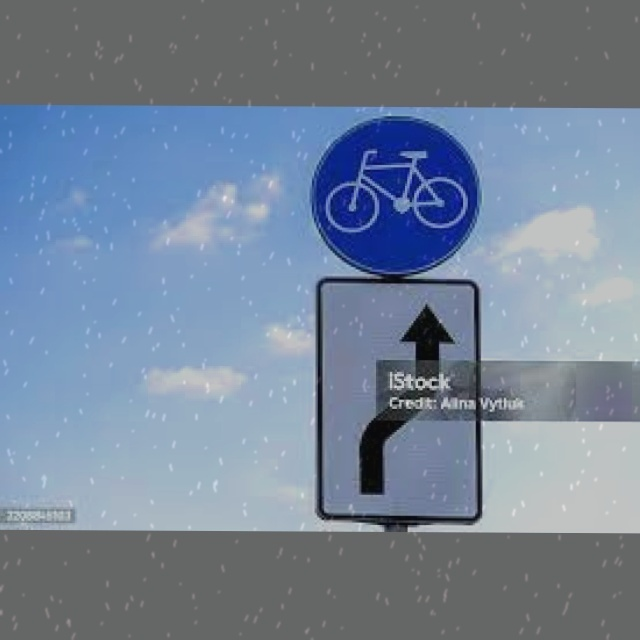Compulsory_Cycle_Track: (310, 117, 484, 274)
